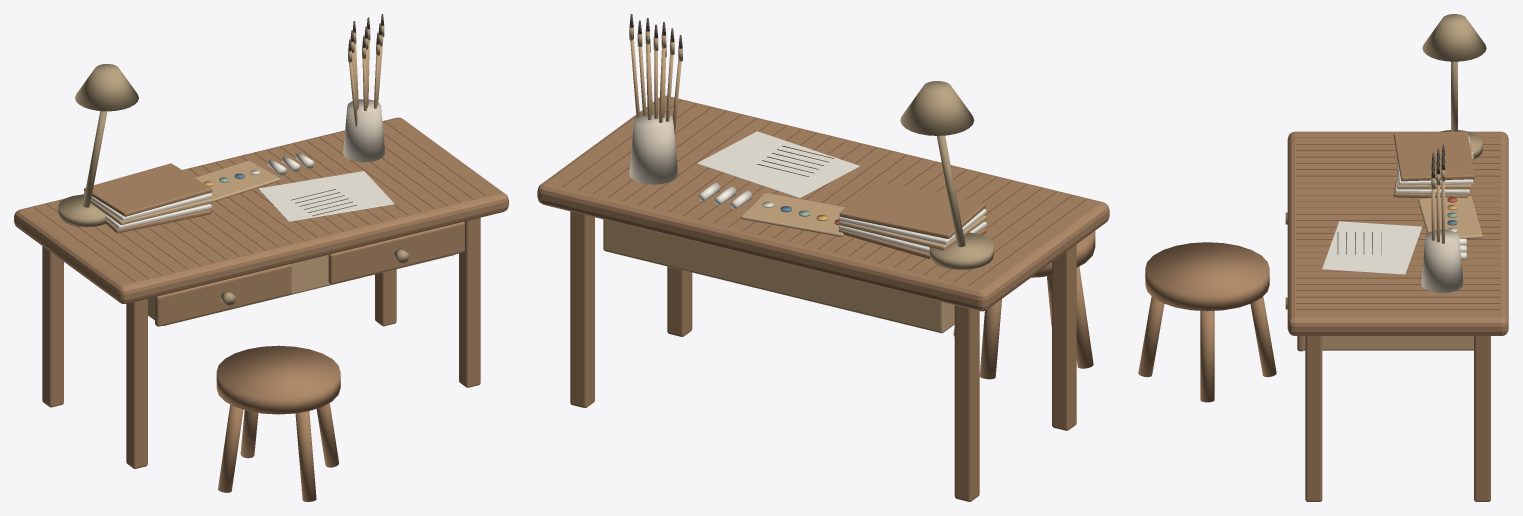
Rendered from artist-desk.glb.
3 renders of one model, left to right at view 1: azimuth 30°, elevation 25°; view 2: azimuth 150°, elevation 25°; view 3: azimuth 270°, elevation 25°, orthographic. The views are drawn at different scales.
Parts seen in each view (by area): view 1: Solid oak worktop, Stool seat, Drawing sheet, Drawer front.001, Drawer front, Sketchbook layer.004, Square tapered desk leg, Square tapered desk leg.002, Square tapered desk leg.001, Glazed brush pot, Lamp shade, Paint palette (+12 smaller); view 2: Solid oak worktop, Front drawer body, Drawing sheet, Square tapered desk leg.001, Square tapered desk leg.003, Sketchbook layer.004, Square tapered desk leg, Glazed brush pot, Lamp shade, Paint palette, Square tapered desk leg.002, Lamp foot (+7 smaller); view 3: Solid oak worktop, Stool seat, Drawing sheet, Sketchbook layer.004, Square tapered desk leg.002, Square tapered desk leg.003, Front drawer body, Glazed brush pot, Lamp shade, Paint palette, Stool leg, Stool leg.003 (+4 smaller).
Boxes of the visible parts, x1,y1,x2,y2 form: Solid oak worktop: (14, 117, 508, 303); Stool seat: (216, 345, 340, 414); Drawing sheet: (258, 171, 394, 221); Drawer front.001: (328, 221, 464, 284); Drawer front: (155, 264, 291, 326); Sketchbook layer.004: (84, 163, 212, 216); Square tapered desk leg: (126, 299, 147, 468); Square tapered desk leg.002: (459, 217, 480, 387); Square tapered desk leg.001: (42, 246, 63, 407); Glazed brush pot: (343, 99, 385, 162); Lamp shade: (75, 64, 138, 111); Paint palette: (195, 160, 280, 202); Solid oak worktop: (537, 95, 1109, 311); Front drawer body: (603, 219, 954, 333); Drawing sheet: (697, 131, 859, 198); Square tapered desk leg.001: (954, 305, 979, 501); Square tapered desk leg.003: (570, 211, 594, 407); Sketchbook layer.004: (839, 181, 985, 238); Square tapered desk leg: (1052, 244, 1076, 430); Glazed brush pot: (629, 111, 677, 184); Lamp shade: (900, 81, 974, 135); Paint palette: (740, 193, 845, 236); Square tapered desk leg.002: (667, 266, 692, 336); Lamp foot: (929, 232, 993, 269); Solid oak worktop: (1287, 131, 1508, 335); Stool seat: (1145, 242, 1269, 311); Drawing sheet: (1322, 221, 1422, 274); Sketchbook layer.004: (1393, 131, 1474, 181); Square tapered desk leg.002: (1305, 336, 1322, 501); Square tapered desk leg.003: (1474, 336, 1490, 501); Front drawer body: (1304, 336, 1473, 350); Glazed brush pot: (1421, 229, 1463, 292); Lamp shade: (1422, 14, 1486, 61); Paint palette: (1418, 196, 1482, 238); Stool leg: (1200, 311, 1214, 402); Stool leg.003: (1138, 296, 1164, 377).
Size of the model in its own units: 2.25 by 1.85 by 1.84.
